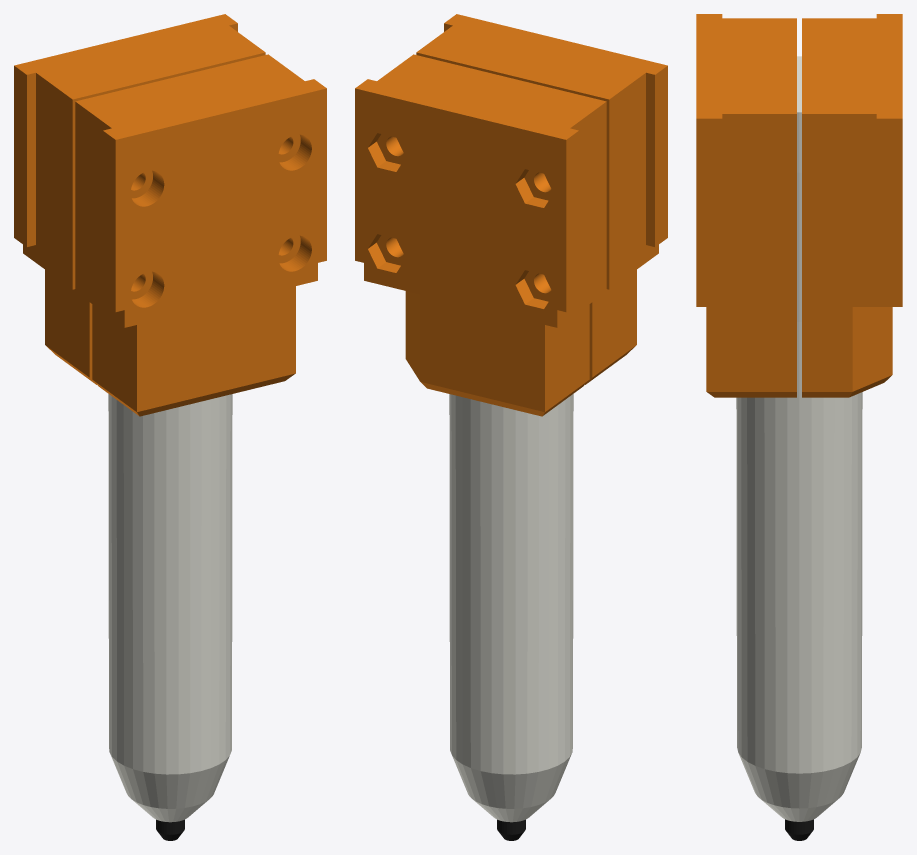
3 views of the same model, side by side, from view 1: azimuth 30°, elevation 25°; view 2: azimuth 150°, elevation 25°; view 3: azimuth 270°, elevation 25° (orthographic).
Parts seen in each view (by area): view 1: adapter_0_node, barrel_node, adapter_1_node; view 2: adapter_1_node, barrel_node, adapter_0_node; view 3: barrel_node, adapter_0_node, adapter_1_node, tip_node.
Part boxes in pixels (<box>): adapter_0_node: <box>75,54,326,416</box>; barrel_node: <box>108,394,232,822</box>; adapter_1_node: <box>14,14,265,384</box>; adapter_1_node: <box>355,54,606,416</box>; barrel_node: <box>449,394,573,822</box>; adapter_0_node: <box>416,14,667,384</box>; barrel_node: <box>736,56,862,821</box>; adapter_0_node: <box>696,14,796,397</box>; adapter_1_node: <box>802,14,902,397</box>; tip_node: <box>785,819,813,840</box>.
Bounding box in the file's own units: 0.0372 × 0.031 × 0.128.
